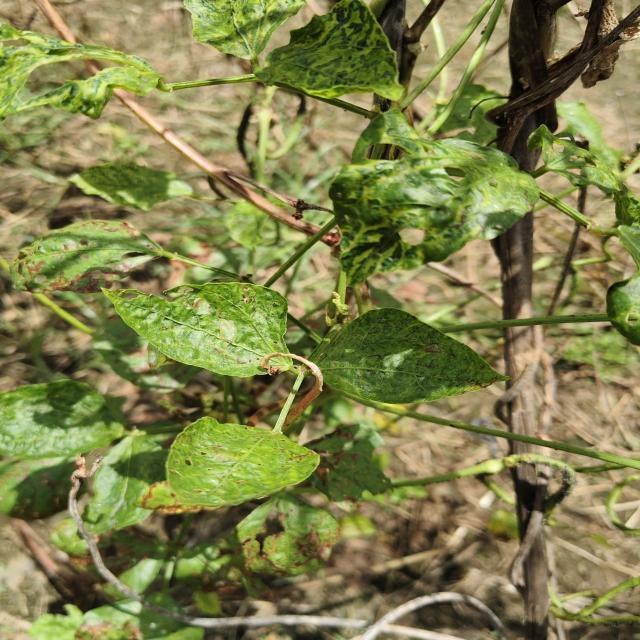leaf-moderate: (103, 282, 290, 377)
sitaw-aphid-high: (167, 418, 319, 506)
sitaw-aphid-low: (356, 128, 523, 258), (316, 308, 507, 404)
